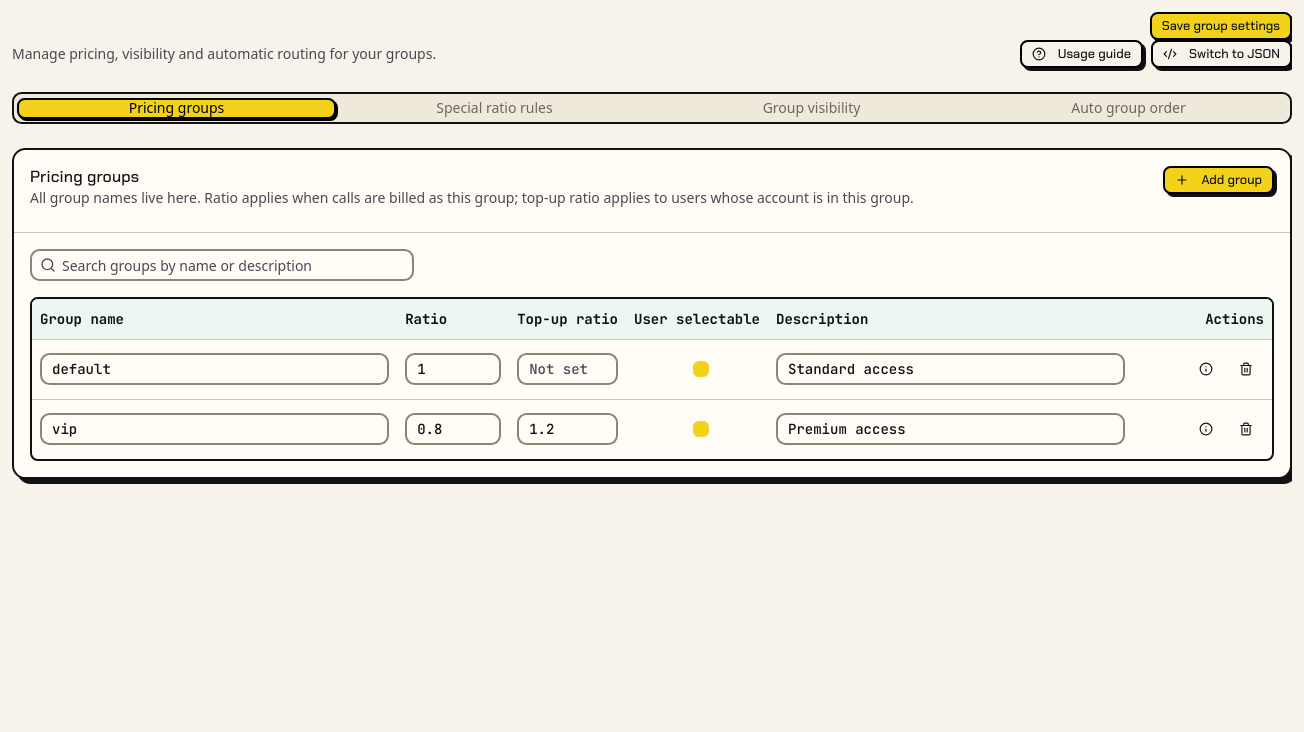
Test case: group settings workspace › filters by description and clears search without discarding edits
The width and height of the screenshot is (1304, 732).
Type "PREMIUM" into the field labelled "Search groups by name or description" at coordinates (234, 265), box 56,249 -> 412,281
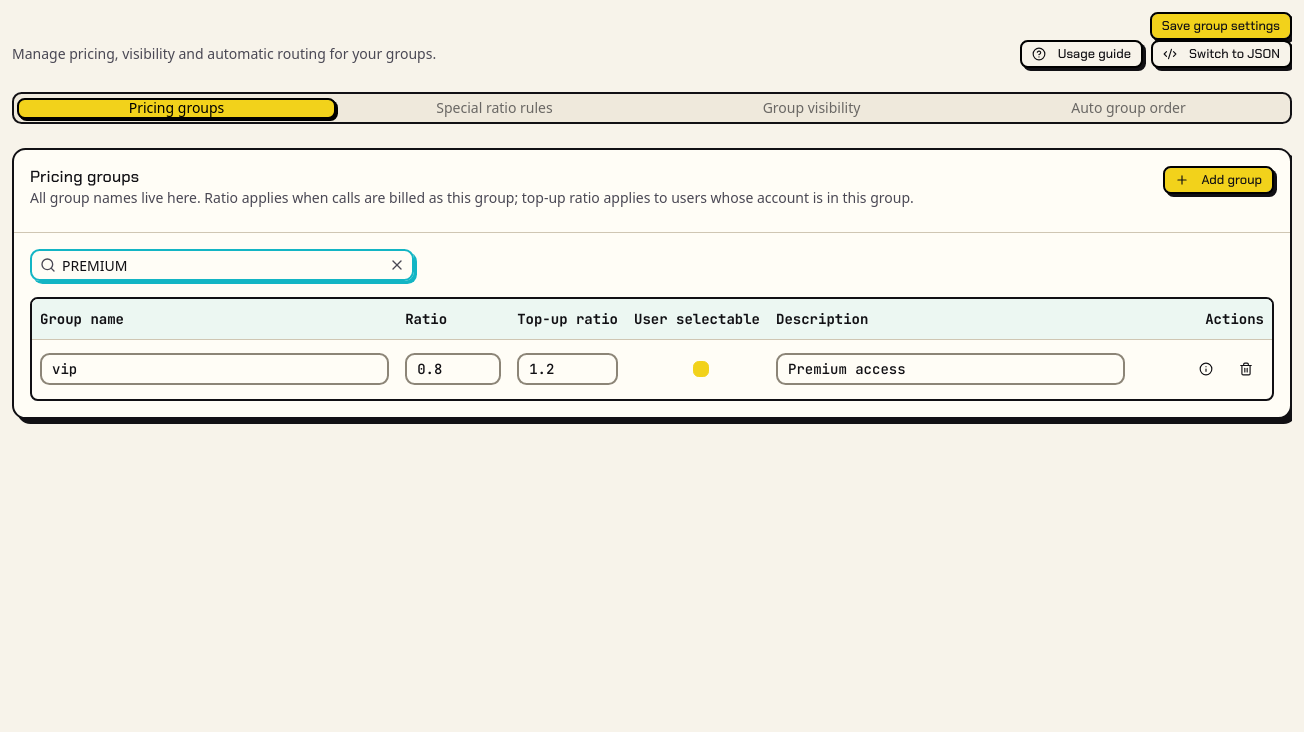
Expected: the number of fields named "Group name" is 1, 40,353 -> 389,385
Expected: the field named "Group name" holds "vip", 40,353 -> 389,385
Replace the text in the number field named "Ratio" with "0.6" at coordinates (453, 369), box 405,353 -> 501,385
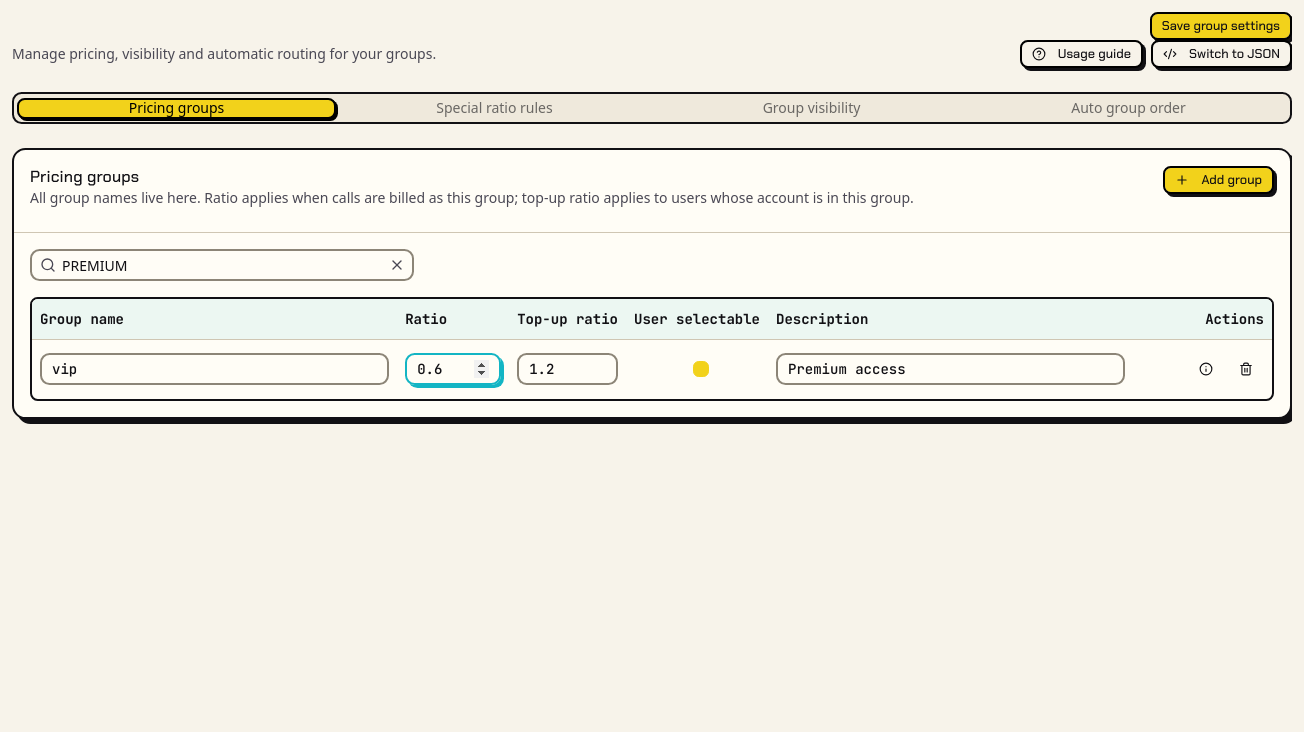
Click the button named "Clear search" at coordinates (397, 265), box 385,253 -> 409,277
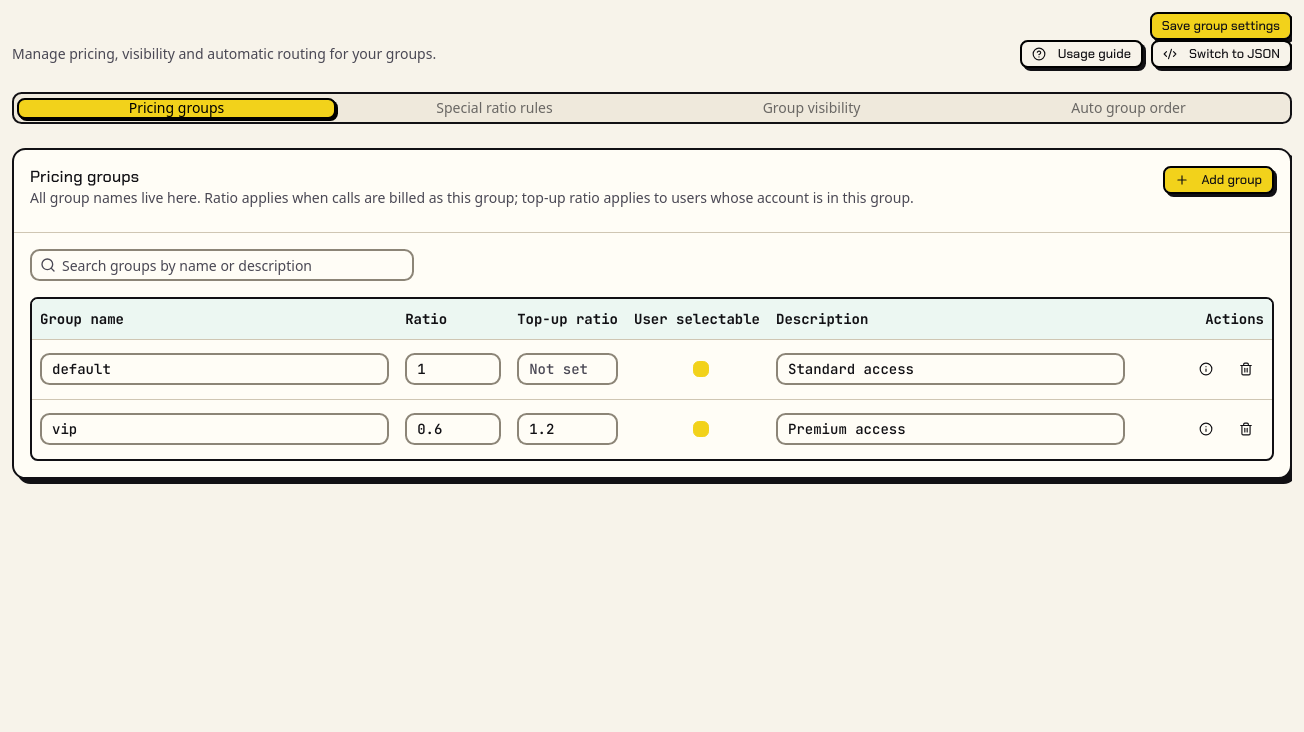
Expected: the number of fields named "Group name" is 2, 40,353 -> 389,385; 40,413 -> 389,445
Type "missing" into the field labelled "Search groups by name or description" at coordinates (234, 265), box 56,249 -> 412,281
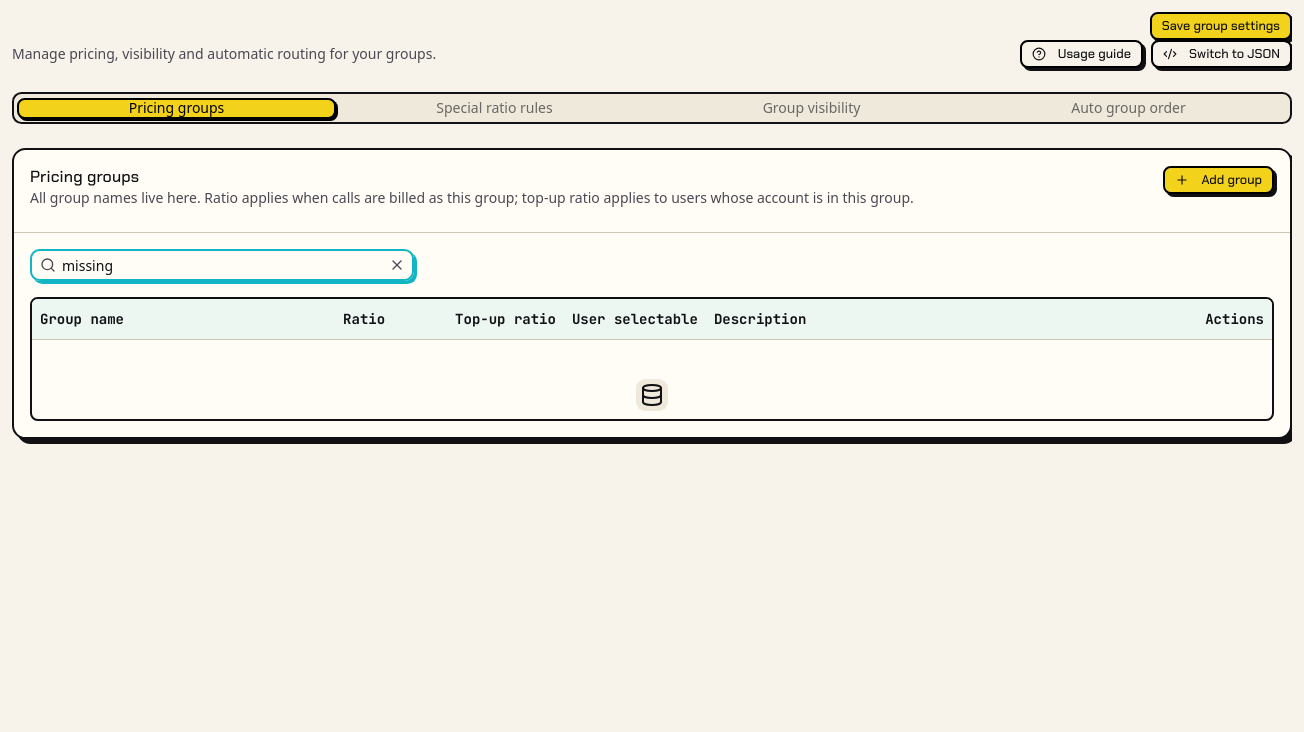
Click the button "Add group" at coordinates (1219, 180), box 1163,166 -> 1274,194
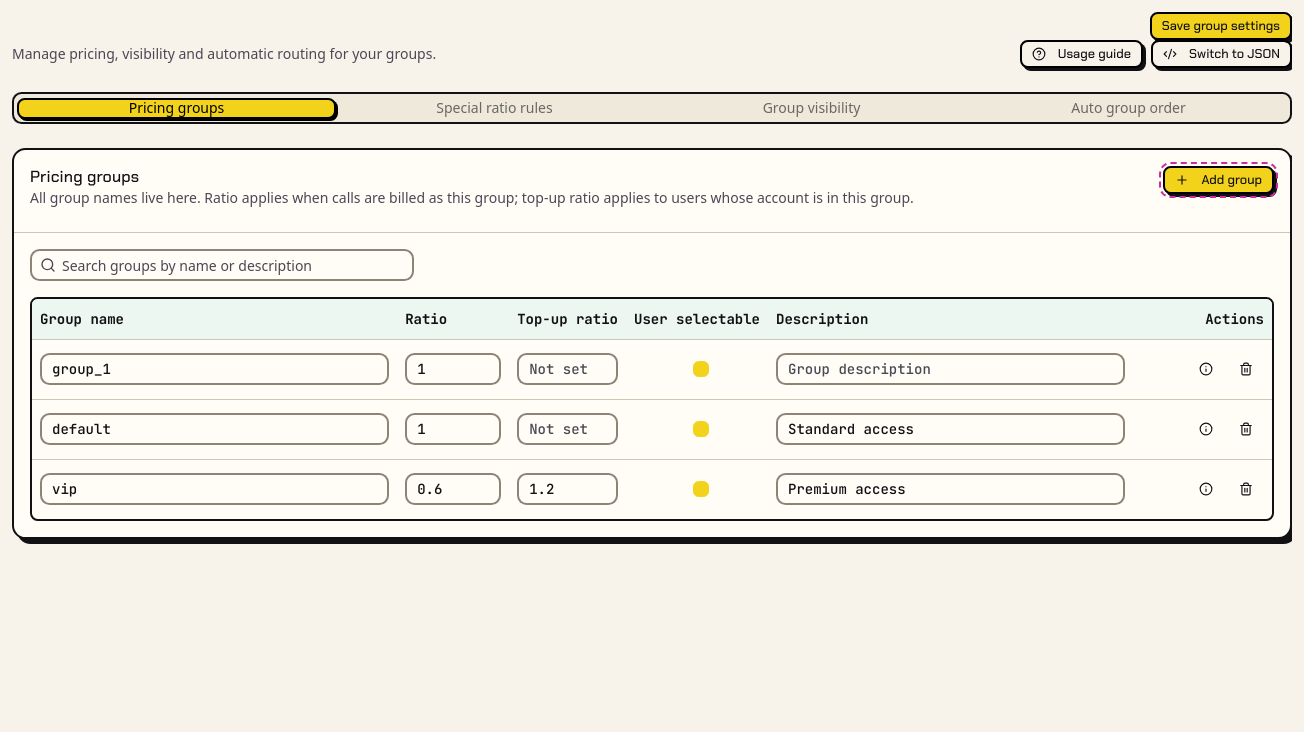
Expected: the field labelled "Search groups by name or description" is empty, 56,249 -> 412,281
Expected: the 3rd number field named "Ratio" holds "0.6", 405,473 -> 501,505
